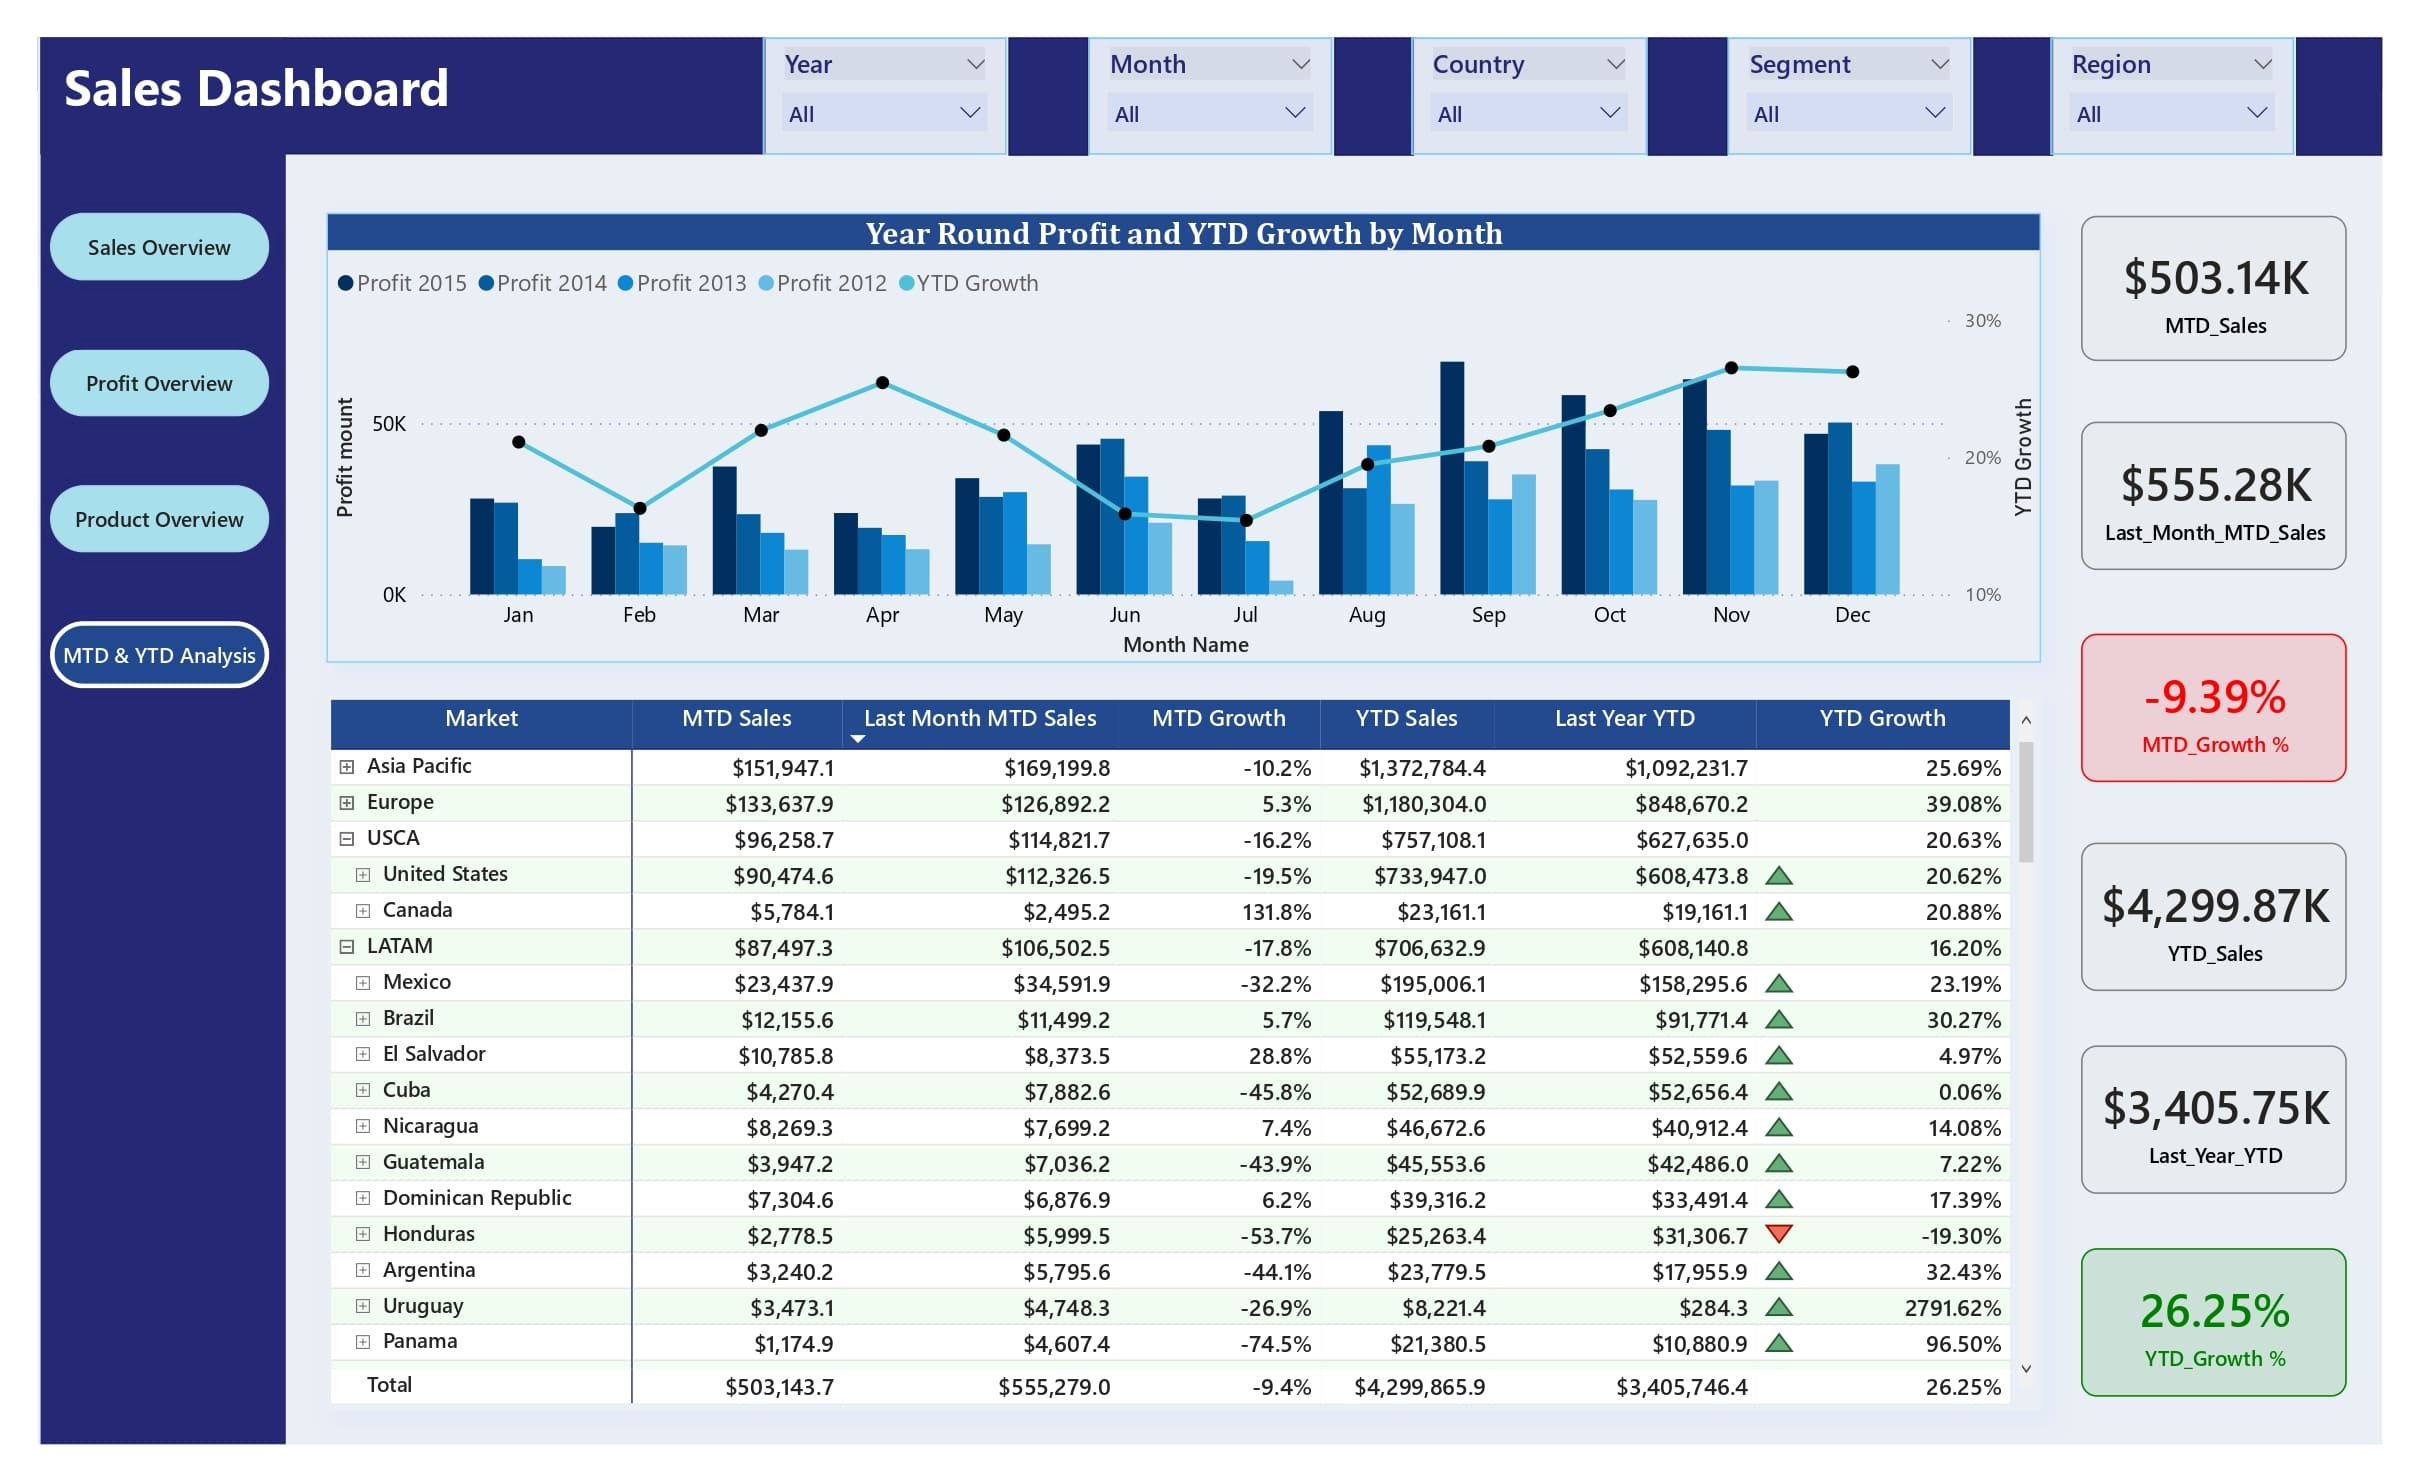

What the dashboard file says about the page in this screenshot:
{"tool":"powerbi","page":{"name":"MTD & YTD Analysis","canvas":[1500,900],"ordinal":3},"visuals":[{"type":"shape","box":[622.2,0,51.1,75.5],"z":0,"group":"g1"},{"type":"slicer","fields":{"Values":["Orders.Country"]},"box":[878.3,0,151.2,74.7],"z":0,"group":"g2"},{"type":"lineClusteredColumnComboChart","title":"Year Round Profit and YTD Growth by Month","fields":{"Category":["Calendar.Month"],"Y":["Orders.CY Profit","Orders.LY Profit","Orders.Profit 2013","Orders.Profit 2012"],"Y2":["Orders.YTD_Growth %"]},"box":[184.5,112.9,1096.6,287.9],"z":0},{"type":"shape","box":[2,0,463.9,74.7],"z":1000,"group":"g1"},{"type":"slicer","fields":{"Values":["Calendar.Year"]},"box":[463.9,0,156.4,74.7],"z":1000,"group":"g2"},{"type":"pivotTable","fields":{"Values":["Orders.MTD_Sales","Orders.Last_Month_MTD_Sales","Orders.MTD_Growth %","Orders.YTD_Sales","Orders.Last_Year_YTD","Orders.YTD_Growth %"],"Rows":["Orders.Market","Orders.Country","Calendar.Year"]},"box":[183,418.1,1098.9,460.4],"z":1000},{"type":"shape","box":[2,0,156.9,900],"z":2000,"group":"g1"},{"type":"slicer","fields":{"Values":["Calendar.Date.Variation.Date Hierarchy.Month"]},"box":[671.1,0,156.4,74.7],"z":2000,"group":"g2"},{"type":"card","fields":{"Values":["Orders.MTD_Sales"]},"box":[1306.8,113.5,170.3,93.2],"z":2000},{"type":"shape","box":[1445.6,0,55.3,75.5],"z":3000,"group":"g1"},{"type":"textbox","box":[11.2,4.8,453.7,87.2],"z":3000,"group":"g2"},{"type":"card","fields":{"Values":["Orders.Last_Month_MTD_Sales"]},"box":[1307,246.2,170.2,94.7],"z":3000},{"type":"shape","box":[1030.7,0,51.1,75.5],"z":4000,"group":"g1"},{"type":"slicer","fields":{"Values":["Orders.Segment"]},"box":[1080.3,0,156.4,74.7],"z":4000,"group":"g2"},{"type":"card","fields":{"Values":["Orders.MTD_Growth %"]},"box":[1307,380.5,170.2,94.7],"z":4000},{"type":"shape","box":[829.7,0,51.1,75.5],"z":5000,"group":"g1"},{"type":"slicer","fields":{"Values":["Orders.Region"]},"box":[1287.5,0,156.4,74.7],"z":5000,"group":"g2"},{"type":"card","fields":{"Values":["Orders.YTD_Growth %"]},"box":[1306.8,774.3,170.3,94.6],"z":5000},{"type":"shape","box":[1238.2,0,51.1,75.5],"z":6000,"group":"g1"},{"type":"card","fields":{"Values":["Orders.YTD_Sales"]},"box":[1307,514.7,170.2,94.7],"z":6000},{"type":"card","fields":{"Values":["Orders.Last_Year_YTD_Sales"]},"box":[1306.8,644.6,170.3,94.6],"z":7000},{"type":"group","id":"g1","title":"Box","box":[2,0,1498,900.4],"z":7500},{"type":"pageNavigator","box":[0,103.9,156.9,323.5],"z":8000},{"type":"group","id":"g2","title":"Group 1","box":[11.2,0,1432.7,92],"z":9000}]}

Visuals, with their boxes on the page's 1500x900 design canvas (x1, y1, x2, y2). These are canvas units, not pixel positions in the 2420x1482 screenshot, which may show the page scaled, cropped or inside an application window:
shape: region(622, 0, 673, 76)
slicer - Orders.Country: region(878, 0, 1030, 75)
"Year Round Profit and YTD Growth by Month" lineClusteredColumnComboChart: region(184, 113, 1281, 401)
shape: region(2, 0, 466, 75)
slicer - Calendar.Year: region(464, 0, 620, 75)
pivotTable - Orders.MTD_Sales x Orders.Last_Month_MTD_Sales: region(183, 418, 1282, 878)
shape: region(2, 0, 159, 900)
slicer - Calendar.Date.Variation.Date Hierarchy.Month: region(671, 0, 828, 75)
card - Orders.MTD_Sales: region(1307, 114, 1477, 207)
shape: region(1446, 0, 1501, 76)
textbox: region(11, 5, 465, 92)
card - Orders.Last_Month_MTD_Sales: region(1307, 246, 1477, 341)
shape: region(1031, 0, 1082, 76)
slicer - Orders.Segment: region(1080, 0, 1237, 75)
card - Orders.MTD_Growth %: region(1307, 380, 1477, 475)
shape: region(830, 0, 881, 76)
slicer - Orders.Region: region(1288, 0, 1444, 75)
card - Orders.YTD_Growth %: region(1307, 774, 1477, 869)
shape: region(1238, 0, 1289, 76)
card - Orders.YTD_Sales: region(1307, 515, 1477, 609)
card - Orders.Last_Year_YTD_Sales: region(1307, 645, 1477, 739)
"Box" group: region(2, 0, 1500, 900)
pageNavigator: region(0, 104, 157, 427)
"Group 1" group: region(11, 0, 1444, 92)
